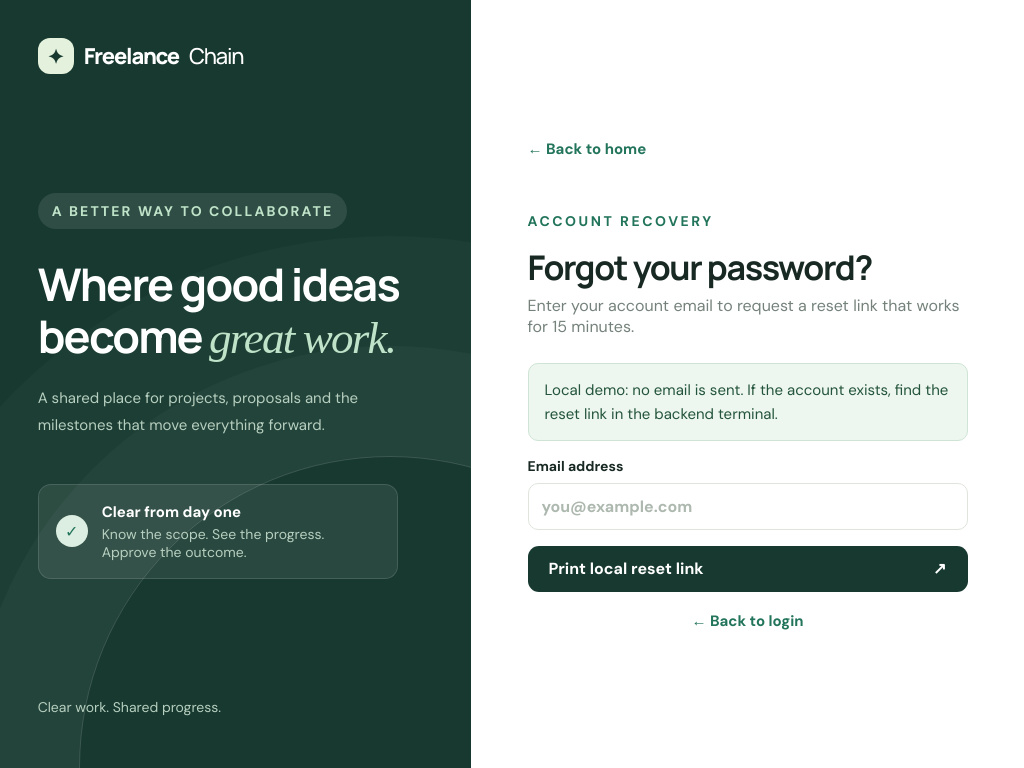
Scenario: local demo explains that reset links appear in the backend terminal
Expected: the text "no email is sent" is shown, x1=544 y1=380 x2=948 y2=424
Type "client@example.test" into the field labelled "Email address".
click(748, 506); type("client@example.test")  # box x1=528 y1=482 x2=968 y2=530
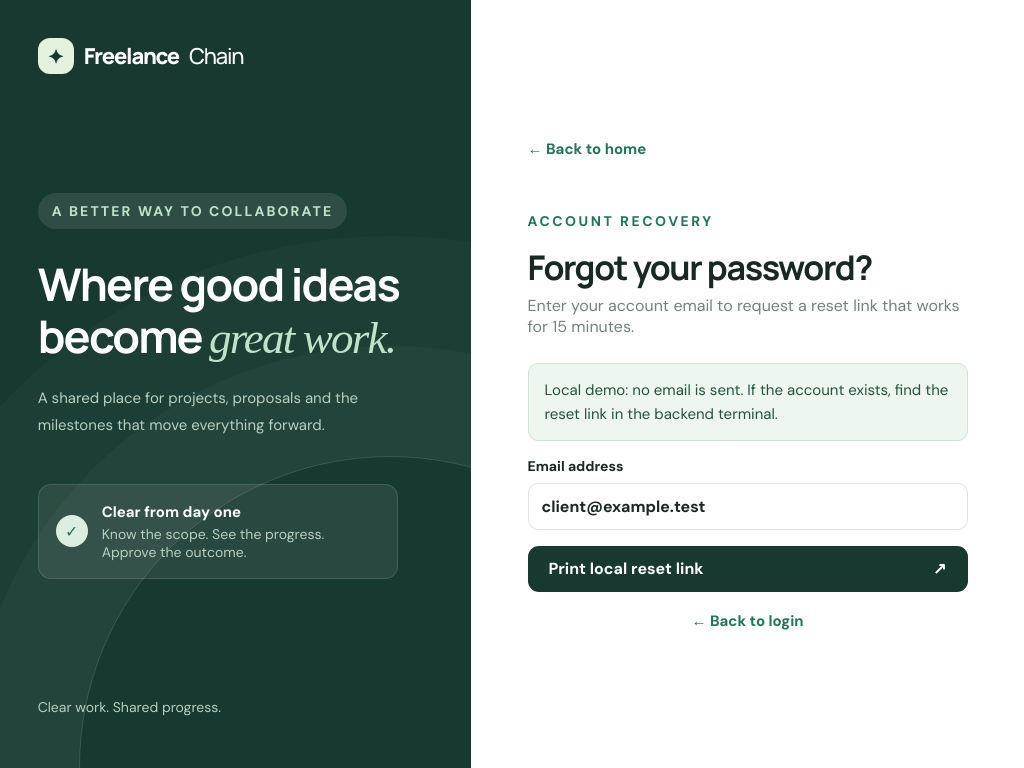
Click the button "Print local reset link ↗".
click(626, 568)  # box x1=528 y1=546 x2=968 y2=592
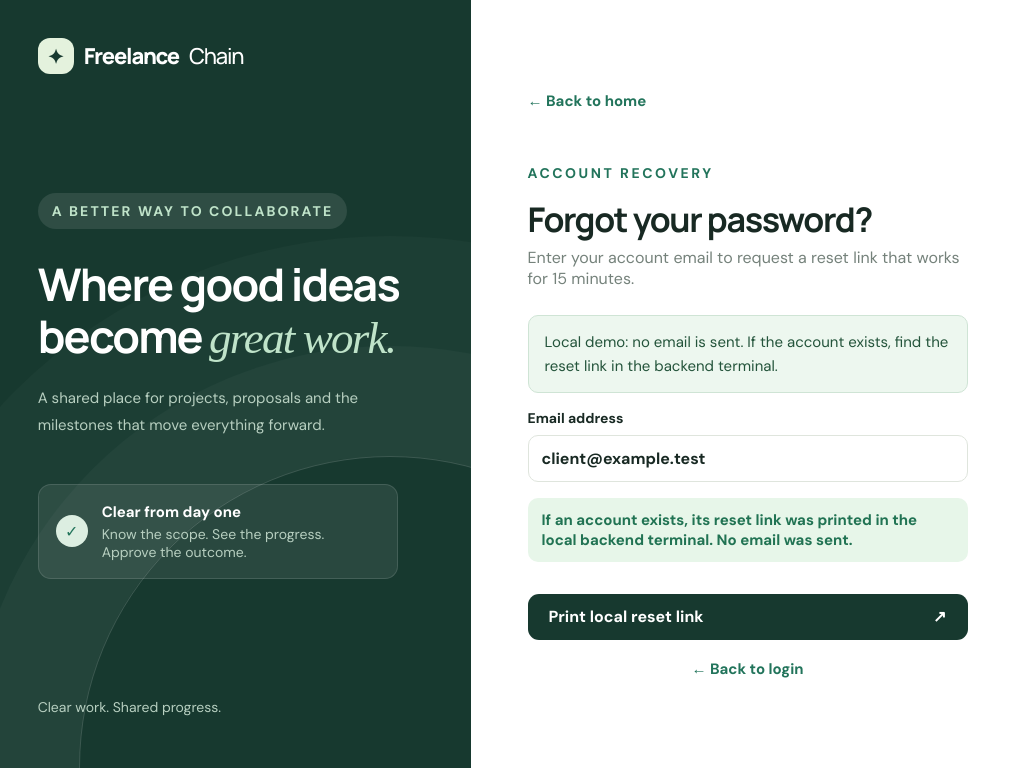
Result: the message shows "no email was sent" at x1=542 y1=510 x2=917 y2=550
